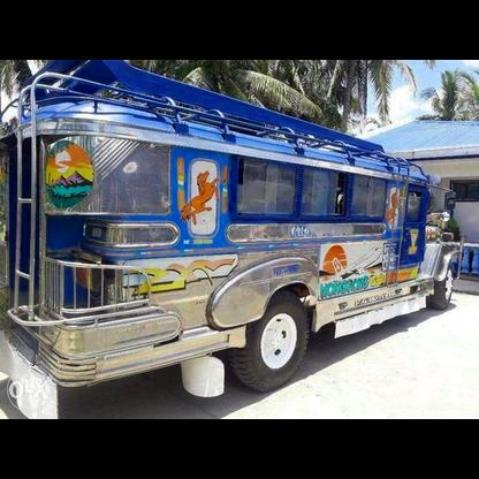jeepney: (4, 71, 465, 401)
